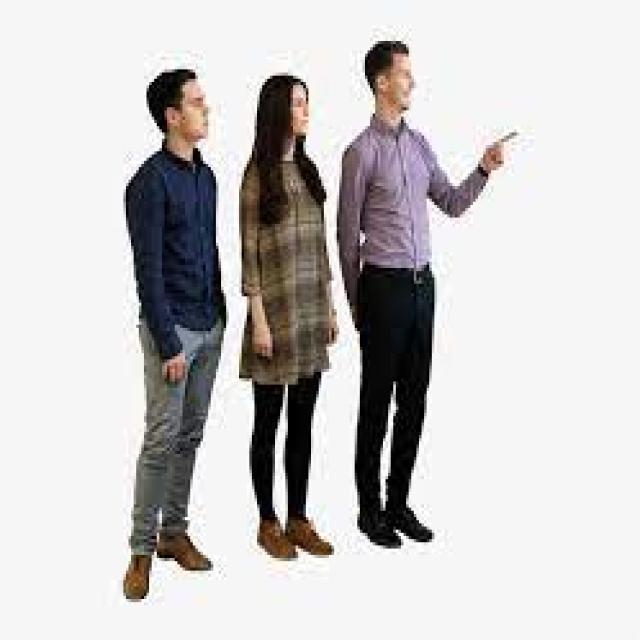standing: (334, 37, 526, 553), (121, 64, 229, 603), (236, 66, 334, 562)
